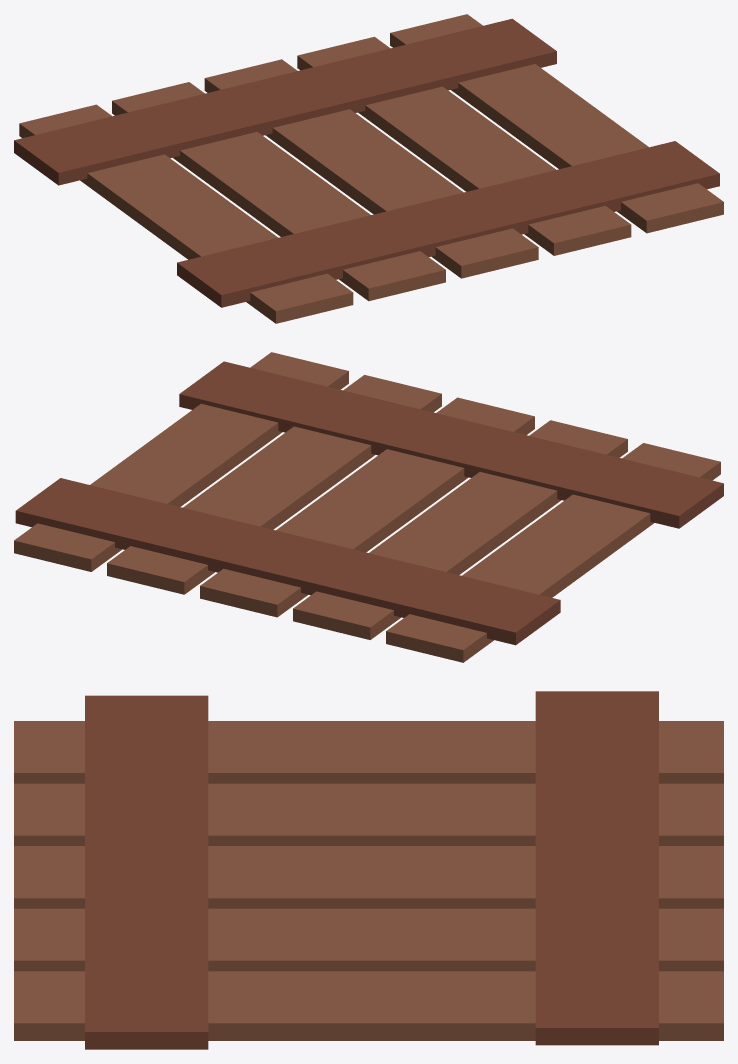
File: plank_complex.glb
3 renders of one model, top to bottom at view 1: azimuth 30°, elevation 25°; view 2: azimuth 150°, elevation 25°; view 3: azimuth 270°, elevation 25°, orthographic. The views are drawn at different scales.
Visible parts, largest first — view 1: Cube; view 2: Cube; view 3: Cube.
Part boxes in pixels (x1,y1,x2,y2): Cube: (14, 14, 723, 323); Cube: (14, 352, 723, 662); Cube: (14, 691, 723, 1049).
Bounding box in the file's own units: 5.86 × 0.2244 × 5.23.
